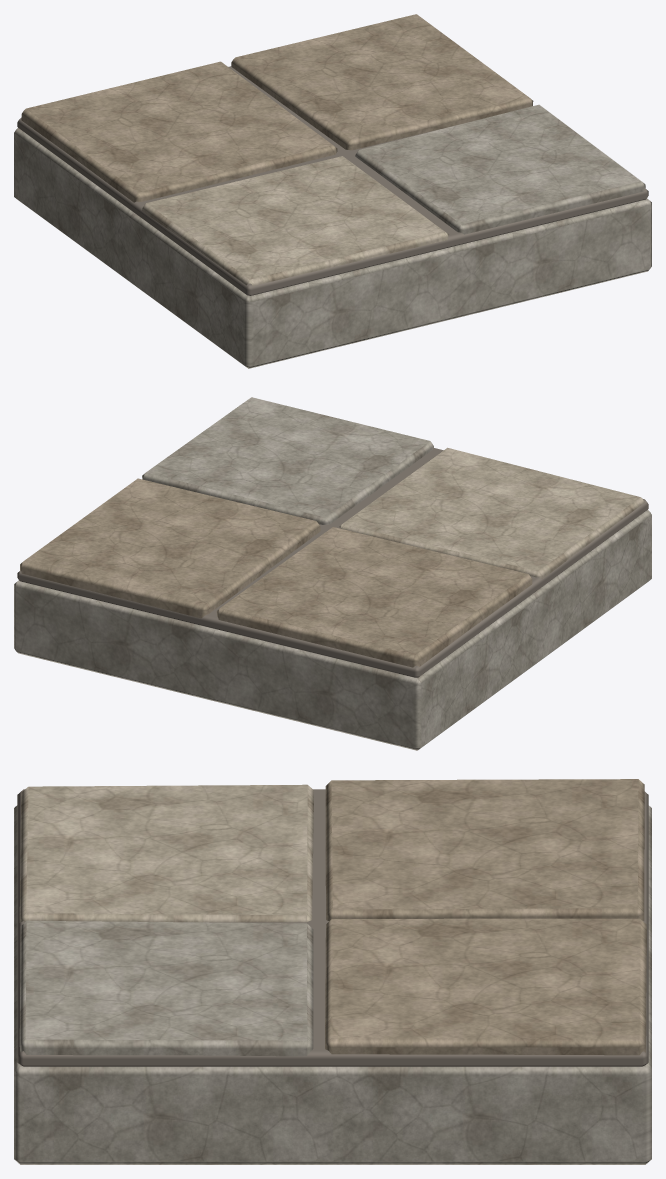
Rendered from Stone_Slab_2m.glb.
3 renders of one model, top to bottom at view 1: azimuth 30°, elevation 25°; view 2: azimuth 150°, elevation 25°; view 3: azimuth 270°, elevation 25°, orthographic. The views are drawn at different scales.
Visible parts, largest first — view 1: Stone_Slab_2m; view 2: Stone_Slab_2m; view 3: Stone_Slab_2m.
Part boxes in pixels (x1,y1,x2,y2): Stone_Slab_2m: (14, 14, 651, 368); Stone_Slab_2m: (14, 397, 651, 750); Stone_Slab_2m: (14, 779, 651, 1164).
Bounding box in the file's own units: 2 × 0.4329 × 2.
4 materials, 3 textured.
